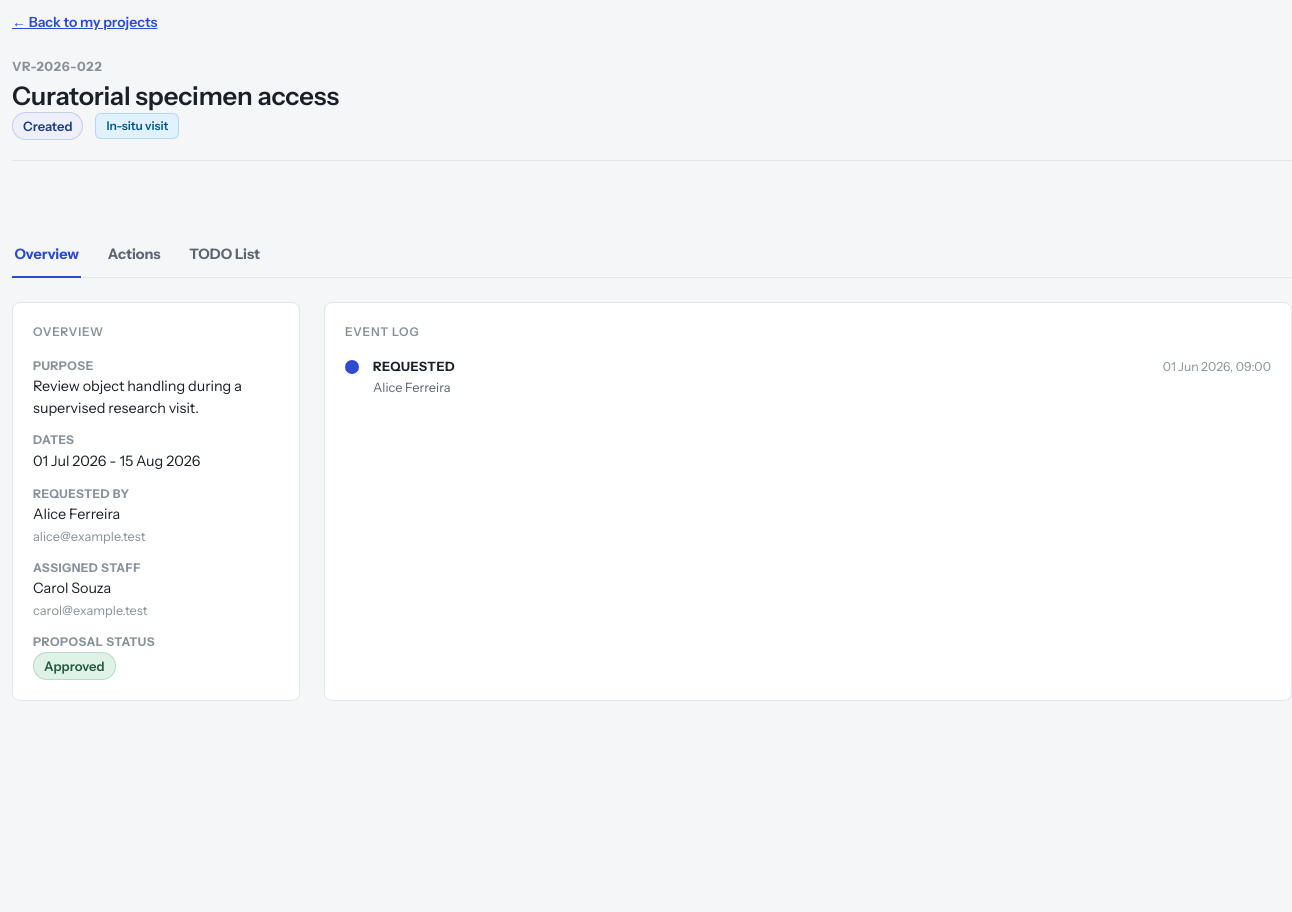
Test: ProjectCuratorialDetailPageComponent › switches to the tasks tab and shows the cancel task
Click the tab "Actions".
click(134, 255)  # box x1=105 y1=233 x2=163 y2=278
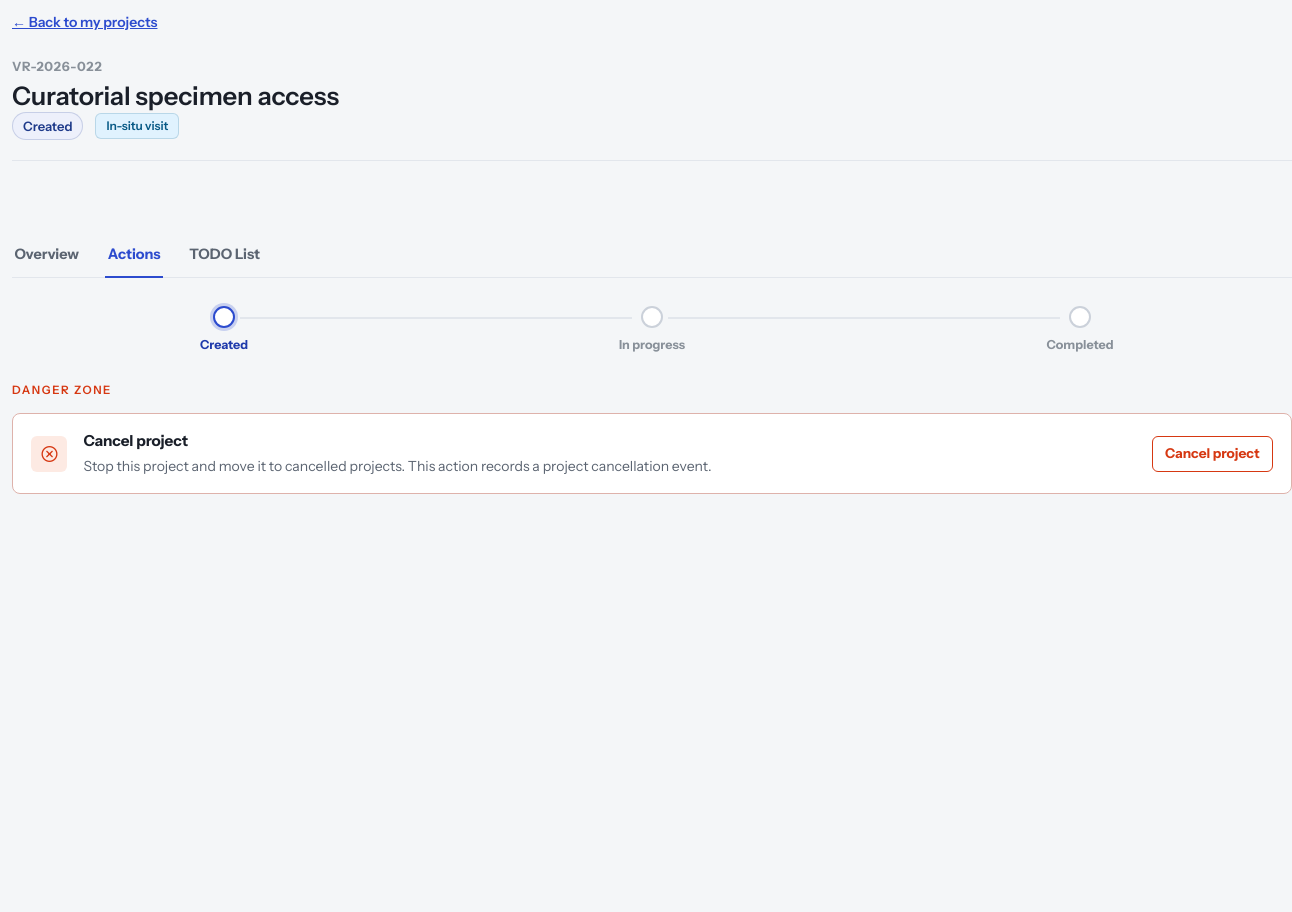
Expected: the panel with id "tasks-panel" is shown, x1=12 y1=302 x2=1291 y2=494
Expected: the text "Cancel project" is shown, x1=83 y1=431 x2=188 y2=450
Expected: the button "Cancel project" is enabled, x1=1152 y1=436 x2=1273 y2=472
